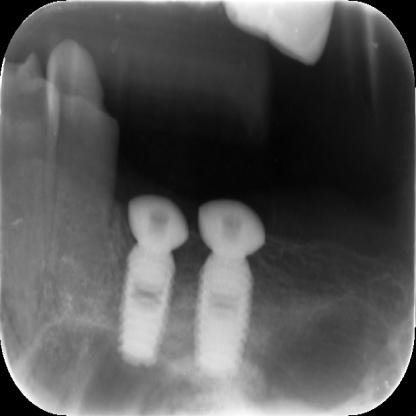Bicon: (112, 242, 176, 372), (192, 254, 256, 380)
